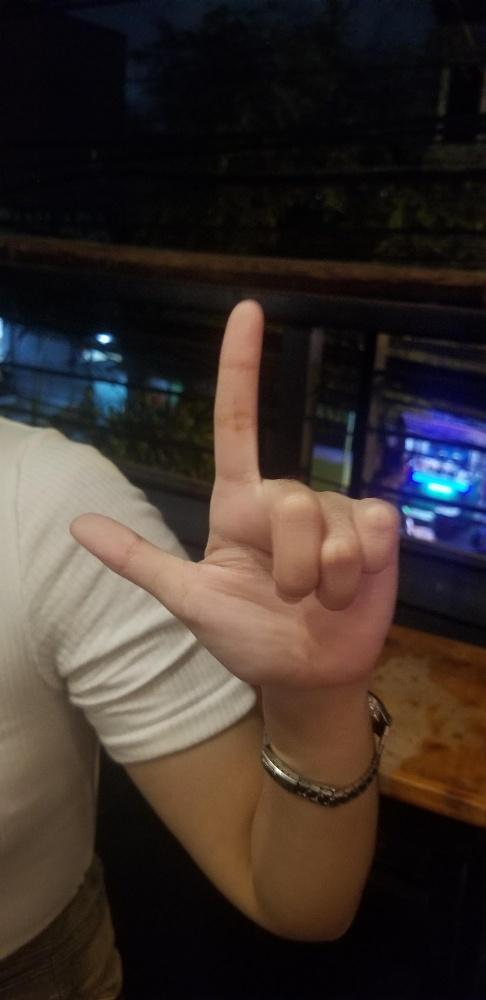l: (68, 297, 405, 691)
